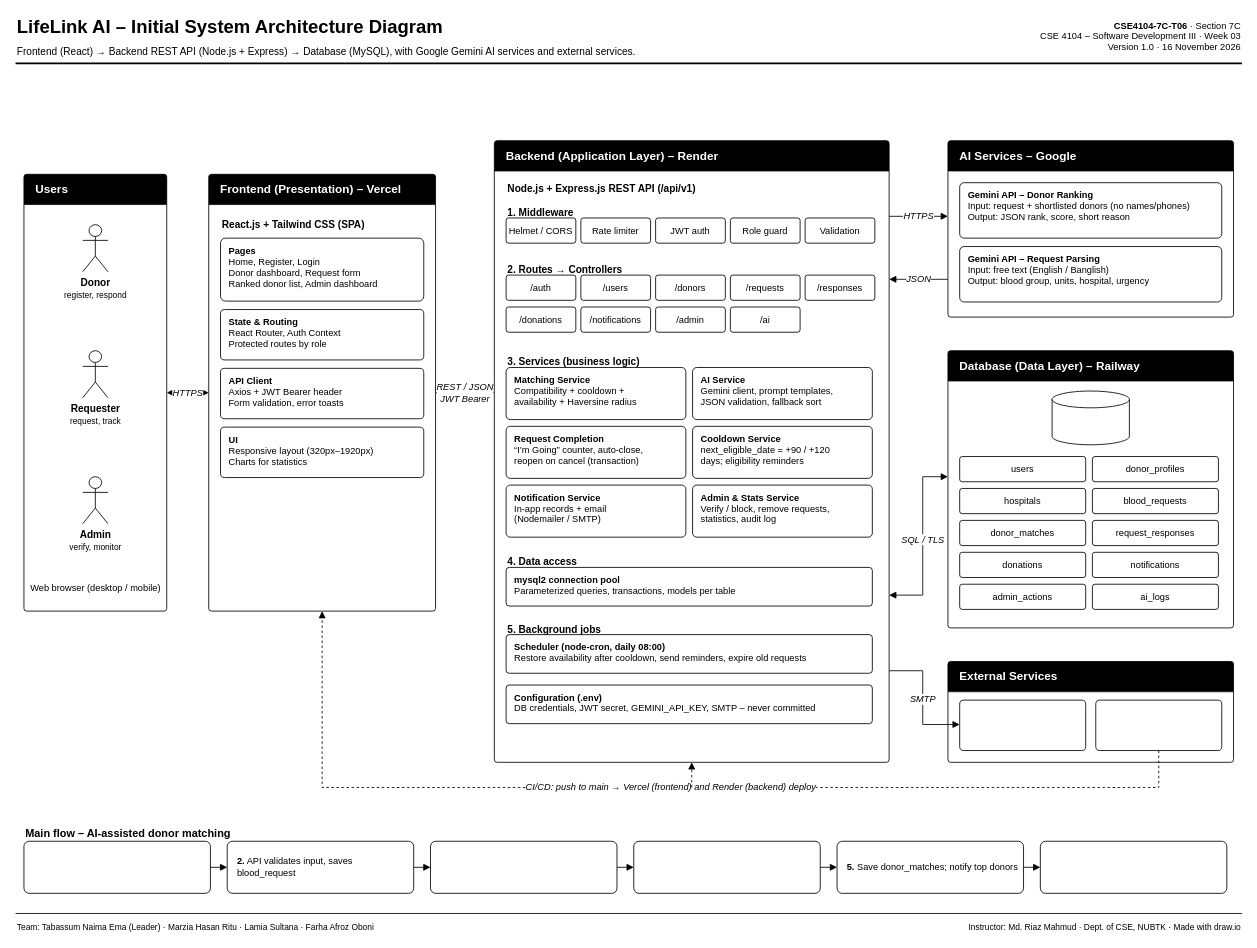
Some shapes in this 1257 by 948 pixel diagram are drawn without their labels. The centre of each missing label's shape, as x and y in pixels:
"1. Requester submits request (form or free text)" goes at point 116,866.
"3. Rule filter: compatible, available, not in cooldown, ≤ 25 km" goes at point 523,866.
"4. Gemini ranks shortlist; fallback = distance sort" goes at point 726,866.
"6. Requester sees ranked list; donors tap “I’m Going”" goes at point 1133,866.
"Email (SMTP) Gmail SMTP via Nodemailer" goes at point 1022,725.
"GitHub Source control, auto-deploy on push" goes at point 1158,725.
"MySQL 8" goes at point 1090,417.
